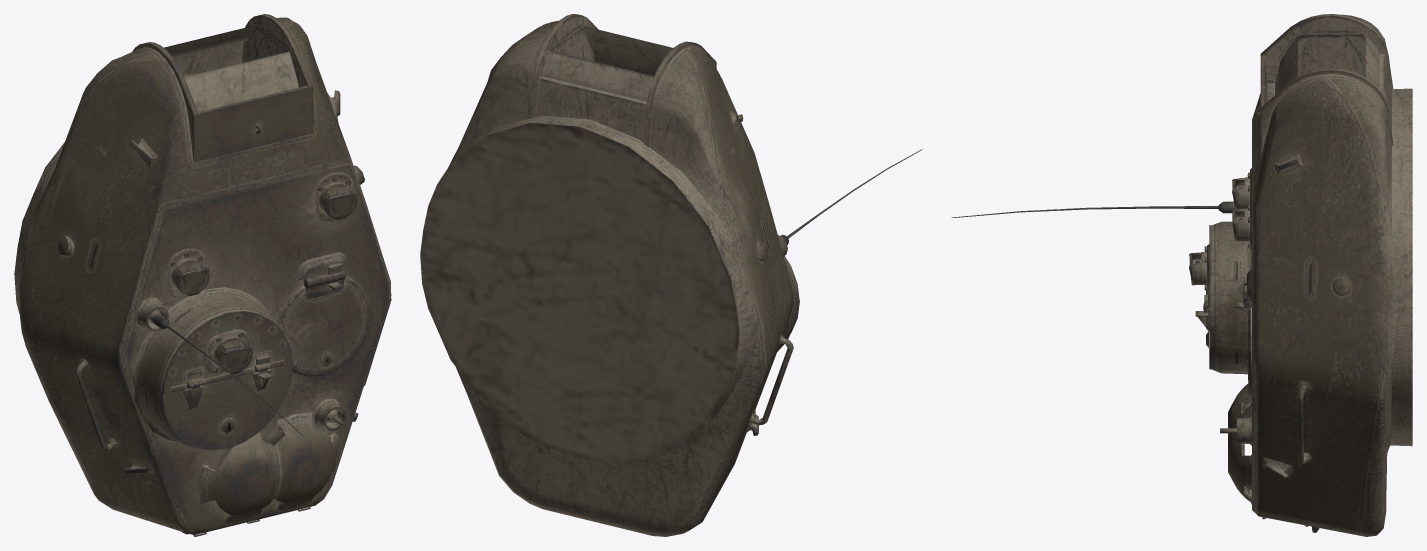
Rendered from Turret_01.glb.
3 views of the same model, side by side, from view 1: azimuth 30°, elevation 25°; view 2: azimuth 150°, elevation 25°; view 3: azimuth 270°, elevation 25° (orthographic). The views are drawn at different scales.
Parts seen in each view (by area): view 1: set_0_group_0; view 2: set_0_group_0; view 3: set_0_group_0.
Part boxes in pixels (x1,y1,x2,y2): set_0_group_0: [14, 14, 391, 536]; set_0_group_0: [420, 14, 922, 536]; set_0_group_0: [951, 14, 1412, 536].
Bounding box in the file's own units: 2.06 × 2.8 × 2.48.
1 material, 1 textured.
